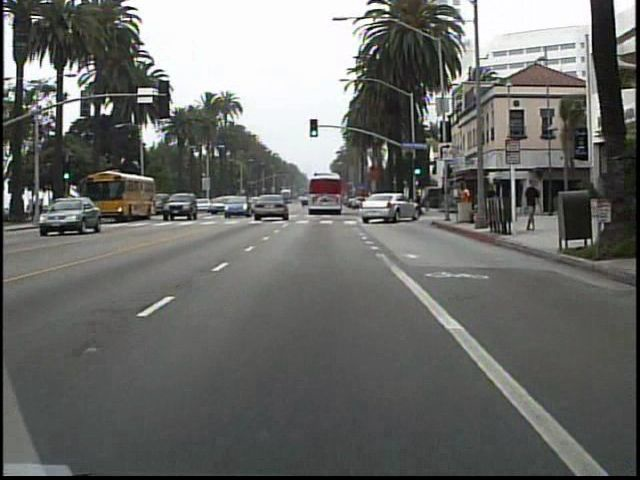person: (520, 176, 543, 234), (484, 180, 500, 225), (455, 180, 472, 222)
